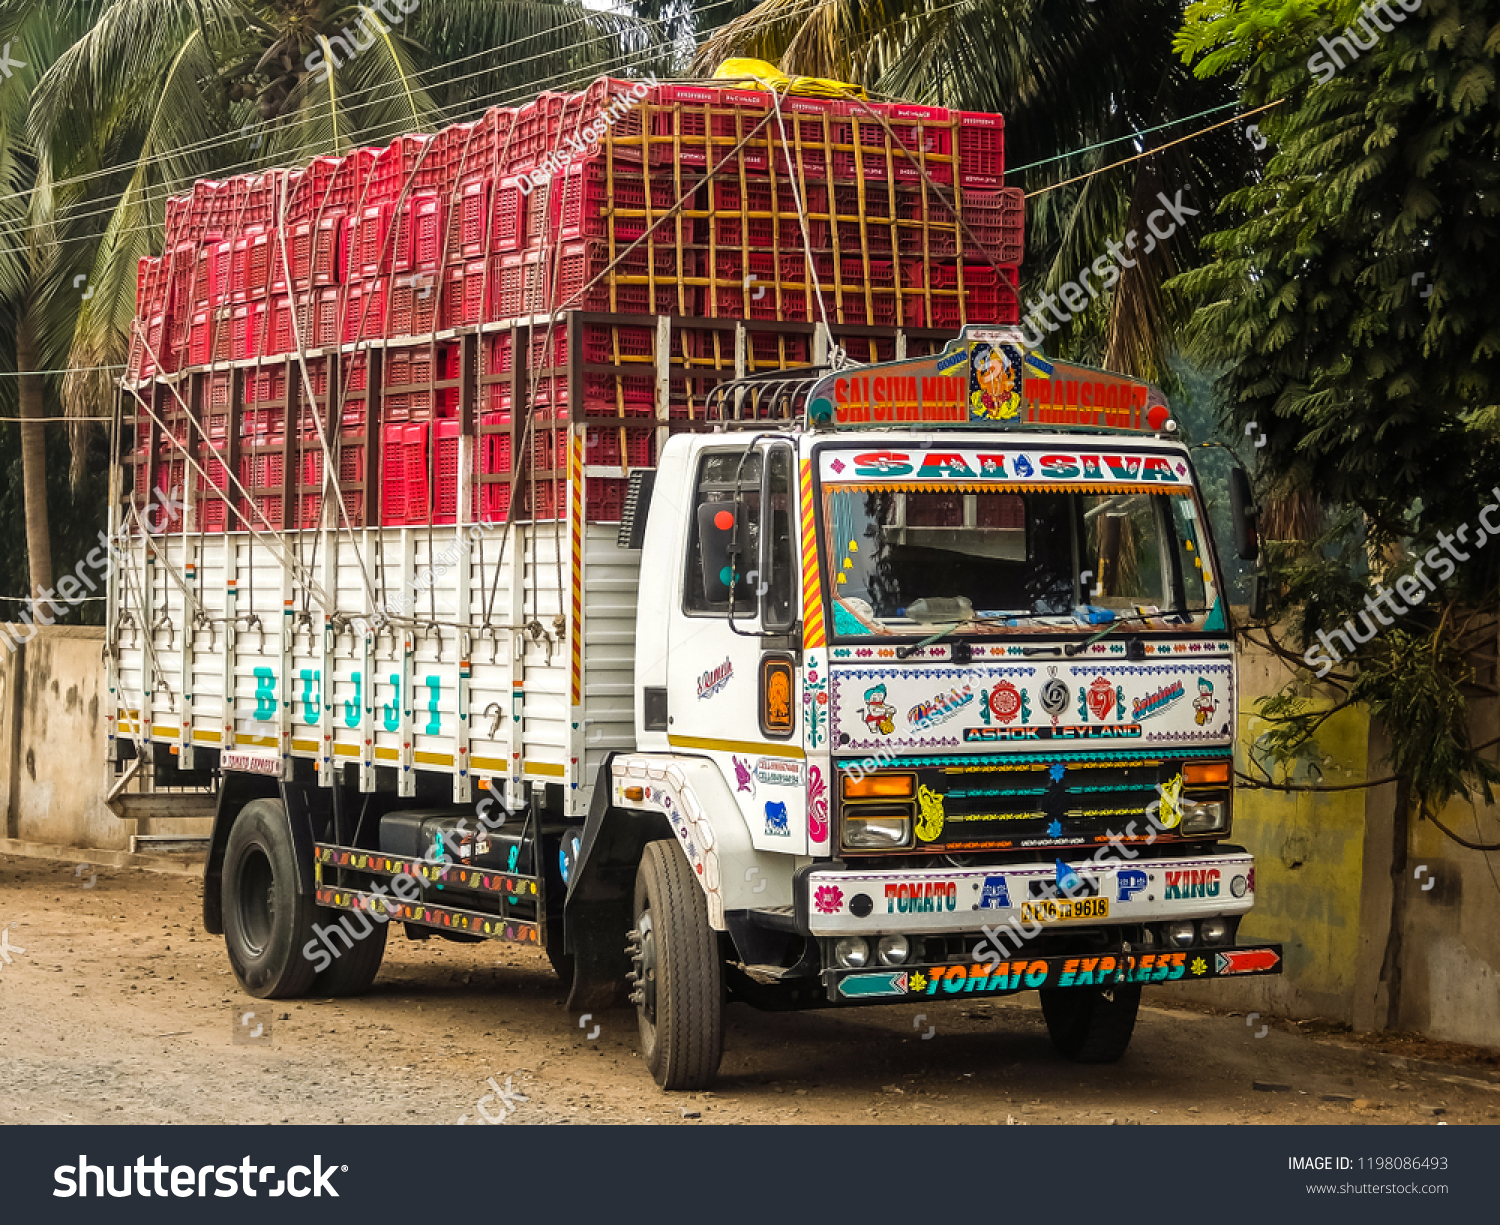wheel: (194, 793, 394, 994), (624, 829, 734, 1090), (1034, 986, 1175, 1067)
